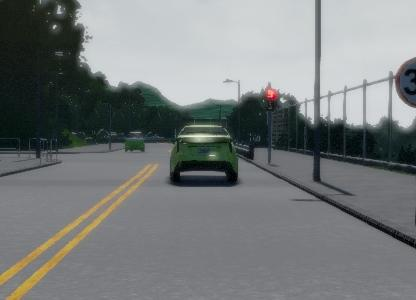Speed_30: (394, 53, 416, 112)
